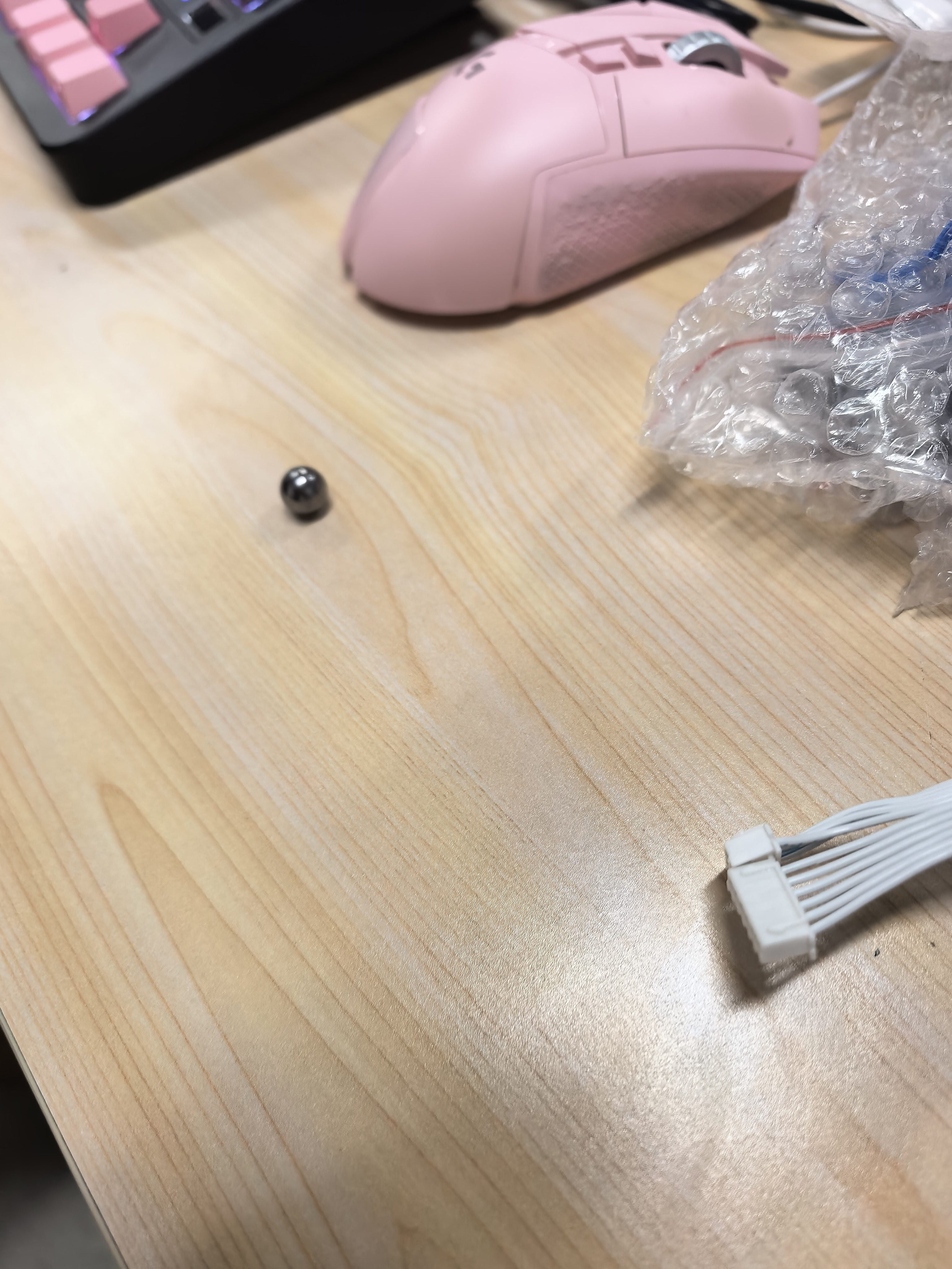ball: (273, 460, 337, 528)
